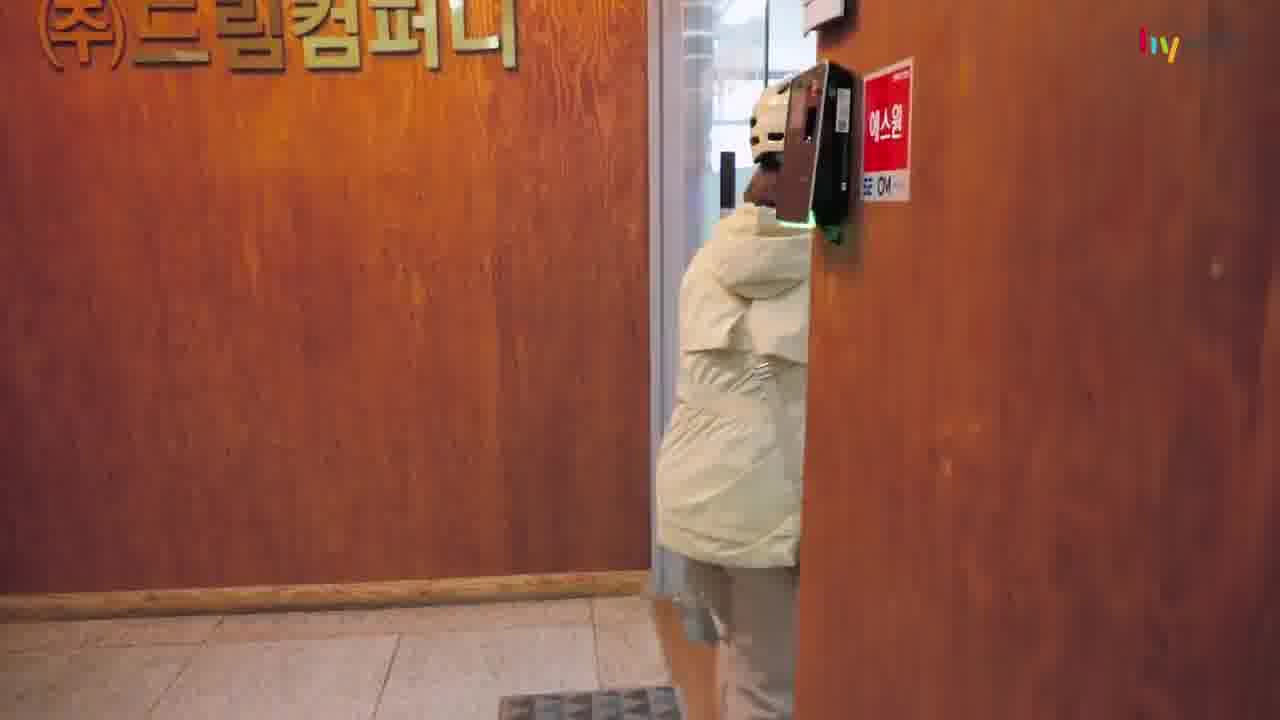Yakurut: (638, 81, 818, 720)
